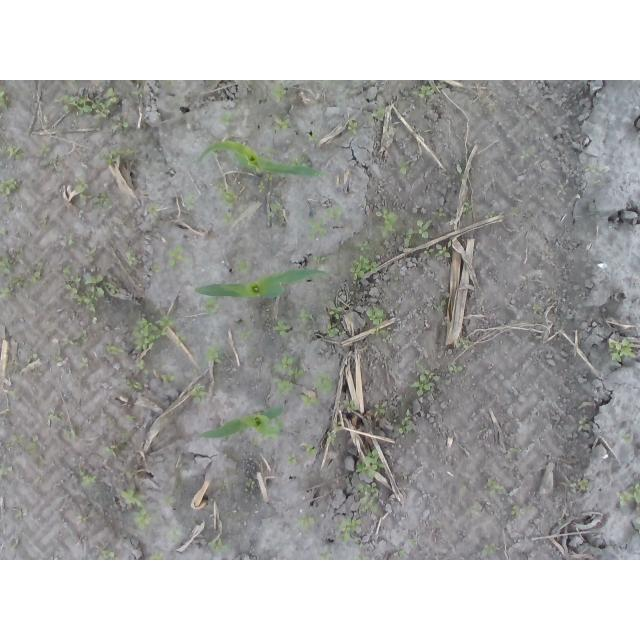Maize: (196, 140, 325, 178), (196, 268, 333, 300), (199, 406, 285, 438)
Weeds: (59, 264, 105, 313), (56, 88, 121, 120), (132, 315, 178, 350), (355, 449, 385, 479), (412, 370, 441, 397), (404, 220, 433, 247), (374, 205, 398, 237), (275, 353, 304, 379), (349, 256, 379, 281), (104, 431, 131, 458), (357, 483, 380, 514), (335, 515, 361, 542), (608, 338, 637, 362), (214, 182, 240, 208), (38, 143, 62, 171), (98, 147, 134, 165), (6, 434, 39, 453), (616, 483, 640, 508), (121, 485, 145, 508), (133, 509, 159, 530), (413, 82, 444, 98), (168, 245, 189, 267), (366, 305, 387, 327), (260, 420, 283, 440), (315, 371, 334, 395), (74, 178, 91, 203), (206, 538, 231, 555), (306, 218, 326, 239), (398, 409, 413, 436), (202, 345, 223, 364), (111, 115, 132, 134), (0, 144, 24, 160), (189, 382, 208, 402), (92, 191, 112, 210), (64, 331, 89, 346), (0, 178, 18, 198), (486, 477, 506, 495), (322, 324, 346, 339), (276, 378, 293, 399), (370, 330, 393, 345), (268, 203, 287, 221), (201, 297, 219, 316), (269, 85, 287, 104), (10, 274, 31, 290), (297, 513, 315, 531), (125, 251, 139, 273), (1, 84, 12, 112), (273, 320, 292, 336), (300, 394, 320, 409), (511, 505, 534, 518), (326, 206, 343, 223), (435, 241, 452, 258), (79, 471, 98, 486), (273, 115, 292, 130), (0, 255, 14, 275), (31, 263, 44, 284), (166, 526, 182, 542), (48, 406, 64, 422), (394, 158, 410, 174), (329, 304, 344, 321), (289, 154, 308, 167), (568, 479, 588, 491), (482, 543, 499, 557), (184, 193, 196, 212), (83, 247, 98, 262), (297, 309, 312, 324), (218, 211, 234, 225), (235, 260, 251, 274), (432, 300, 446, 316), (52, 348, 65, 365), (342, 400, 359, 413), (374, 401, 387, 418), (63, 427, 77, 442), (0, 287, 14, 302), (456, 164, 466, 185), (372, 108, 387, 122), (107, 345, 126, 356), (316, 548, 332, 561), (125, 379, 143, 390), (136, 359, 149, 374), (325, 430, 337, 446), (148, 549, 165, 560), (356, 241, 373, 252), (106, 281, 119, 295), (305, 444, 317, 459), (175, 332, 190, 344), (146, 202, 158, 217), (237, 330, 252, 342), (456, 337, 471, 349), (306, 130, 319, 143), (0, 463, 12, 477), (219, 112, 231, 126), (463, 203, 474, 218), (347, 120, 358, 135), (584, 163, 600, 173), (28, 352, 41, 364), (520, 148, 532, 161), (578, 418, 590, 431), (263, 146, 277, 157), (432, 207, 447, 217), (64, 234, 76, 246), (160, 374, 176, 383), (14, 509, 27, 520), (287, 453, 298, 466), (79, 356, 89, 369), (448, 364, 464, 372), (393, 550, 407, 559), (469, 505, 480, 516), (390, 268, 400, 280), (314, 256, 327, 265), (354, 537, 362, 551), (415, 359, 426, 369), (245, 477, 256, 487), (165, 497, 176, 507), (151, 264, 162, 274), (102, 550, 114, 559), (122, 468, 134, 477), (423, 246, 433, 256), (621, 433, 631, 443), (532, 303, 541, 314), (558, 185, 567, 195), (258, 182, 266, 193), (635, 517, 640, 534), (76, 515, 88, 522), (125, 414, 137, 421), (265, 172, 274, 181), (486, 210, 495, 218), (212, 150, 220, 159), (511, 206, 518, 216), (2, 204, 10, 212), (190, 368, 198, 376), (333, 421, 342, 428), (91, 316, 98, 325), (355, 556, 370, 560), (251, 439, 259, 446), (131, 91, 141, 96), (1, 229, 8, 236), (557, 518, 563, 526), (410, 537, 418, 543), (511, 447, 518, 453), (165, 80, 175, 84)
